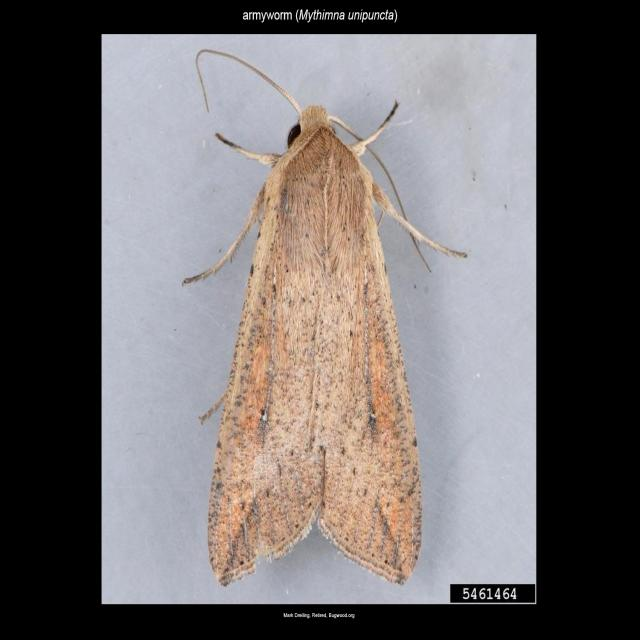Armyworm: (162, 52, 477, 604)
